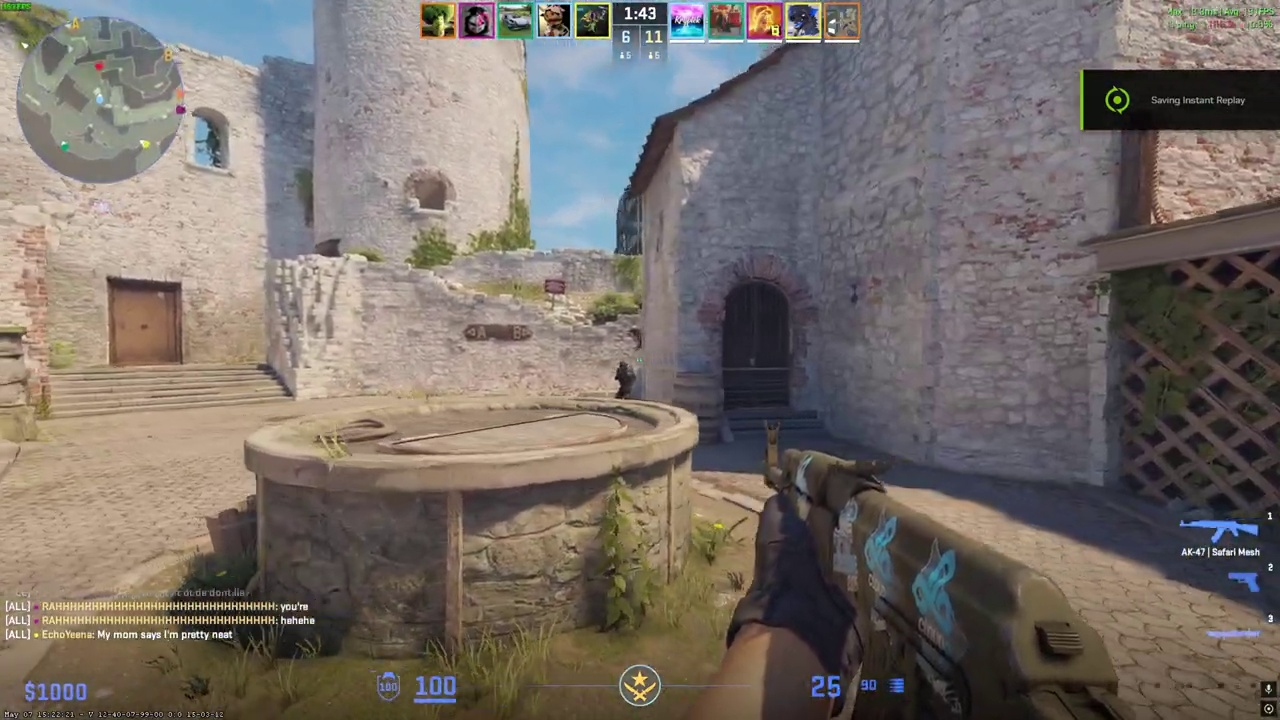CT: (613, 361, 636, 399)
